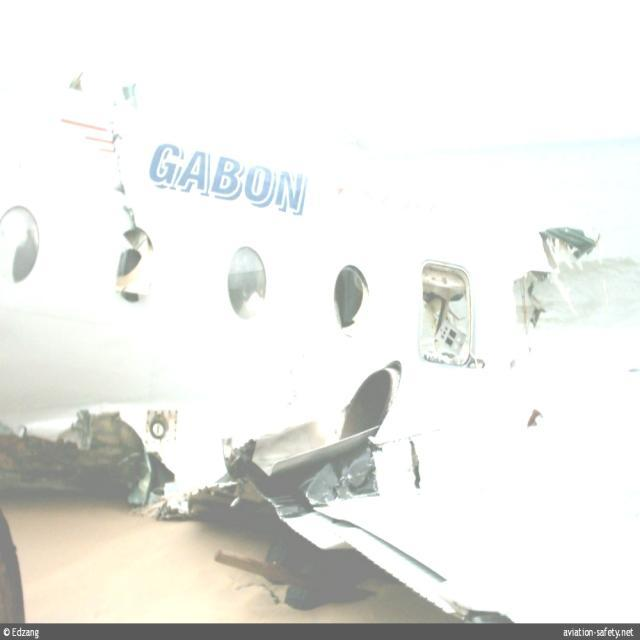crack: (109, 118, 140, 236), (403, 439, 424, 495)
